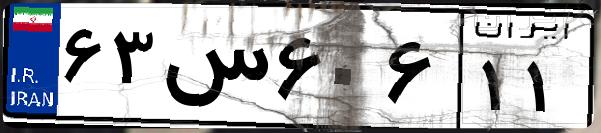0: (330, 28, 385, 110)
1: (475, 38, 525, 113), (525, 38, 570, 115)
3: (110, 28, 158, 98)
6: (270, 28, 330, 110), (385, 28, 445, 110), (57, 26, 110, 100)
س: (158, 20, 270, 120)
